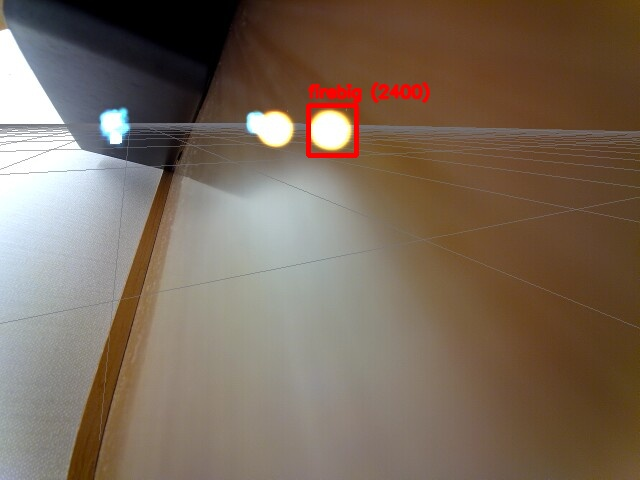firebig: (308, 105, 356, 155)
